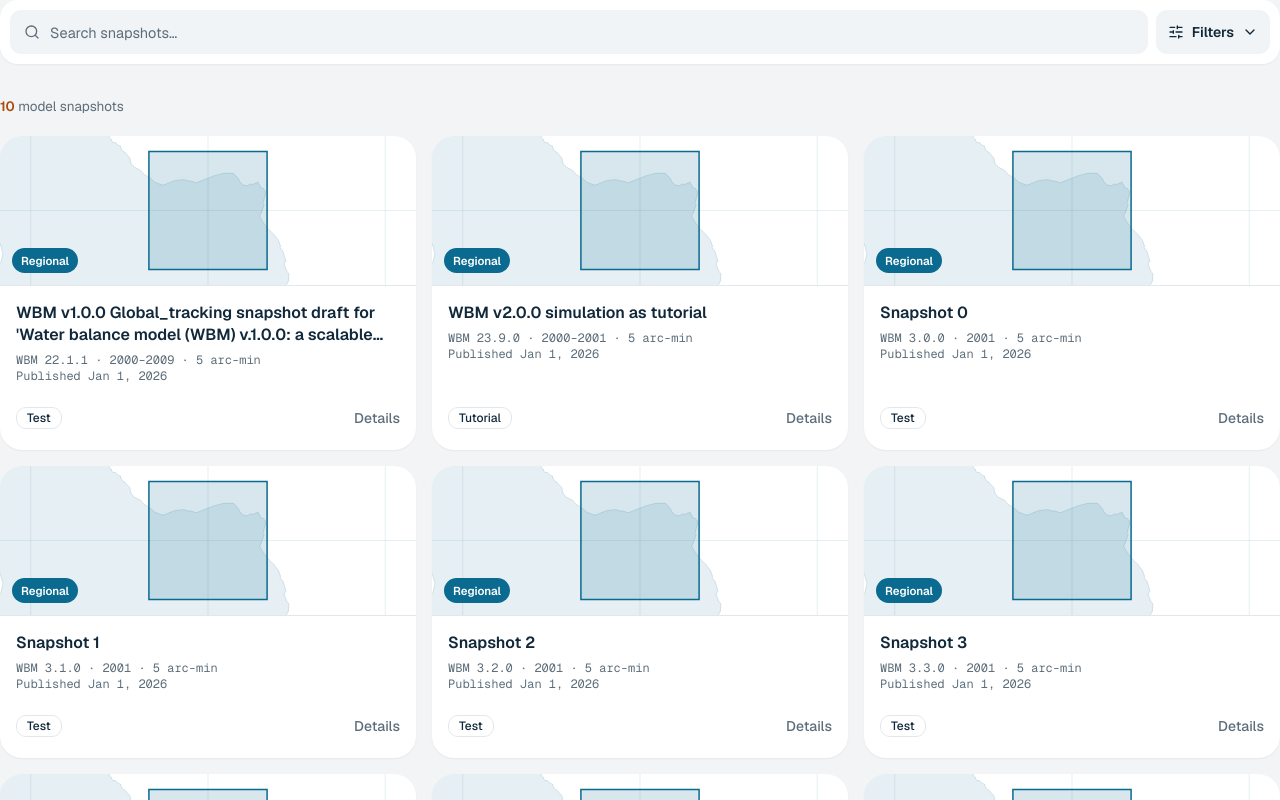
Test: the Details sheet › opens from a row's Details button with the snapshot's own content, and the list keeps its width
Click the button "Details" below "WBM 22.1.1 · 2000–2009 · 5 arc-min" at (377,418), box [346,402,408,434]
(page scrolled)
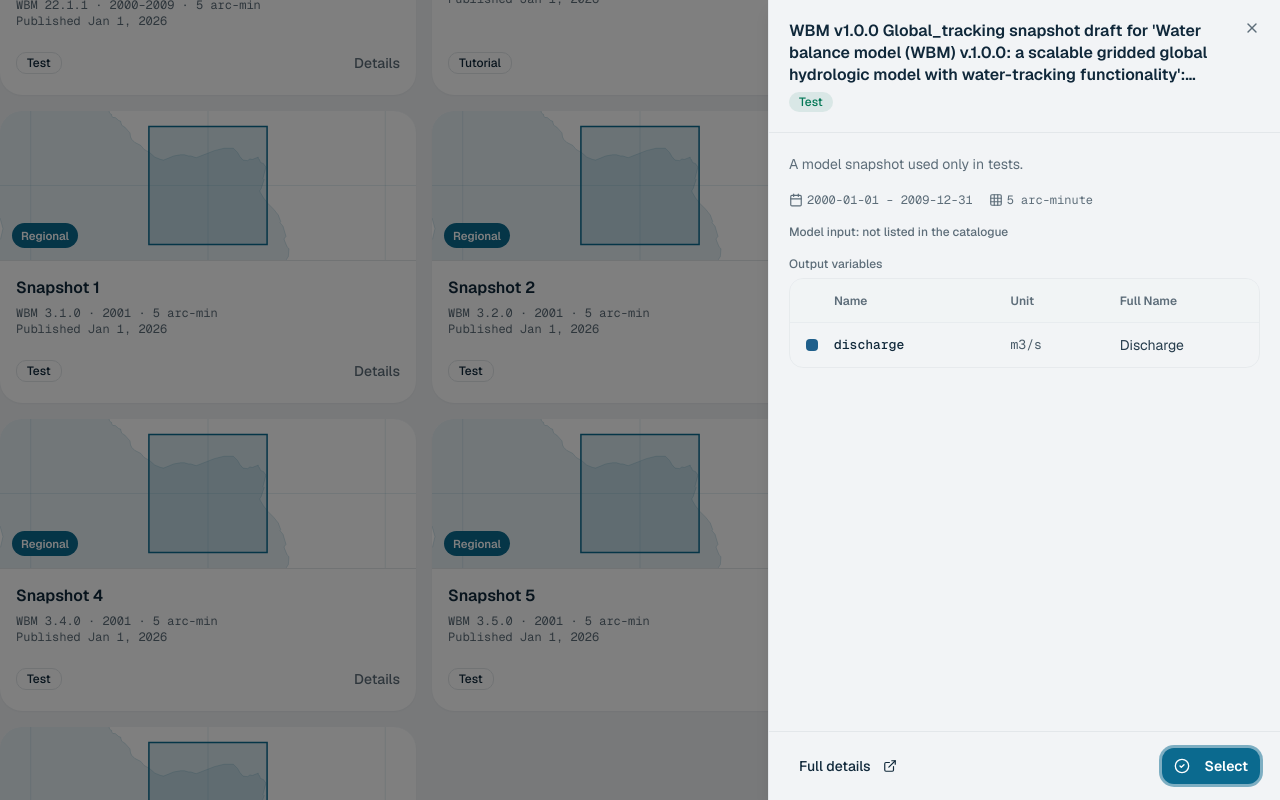
Now the heading named "WBM v1.0.0 Global_tracking snapshot draft for 'Water balance model (WBM) v.1.0.0: a scalable gridded global hydrologic m" is shown, box [789,20,1224,86]
Now the text "A model snapshot used only in tests." is shown, box [789,155,1023,173]
Now the text "Output variables" is shown, box [789,256,882,272]
